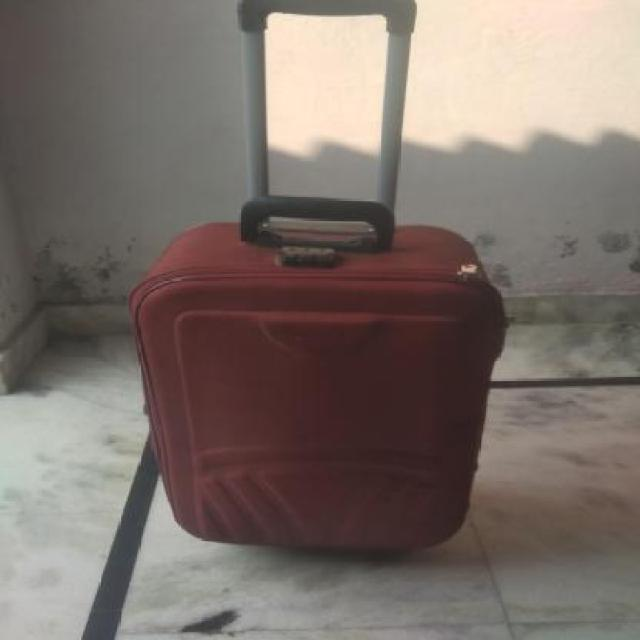backpack: (121, 0, 517, 562)
